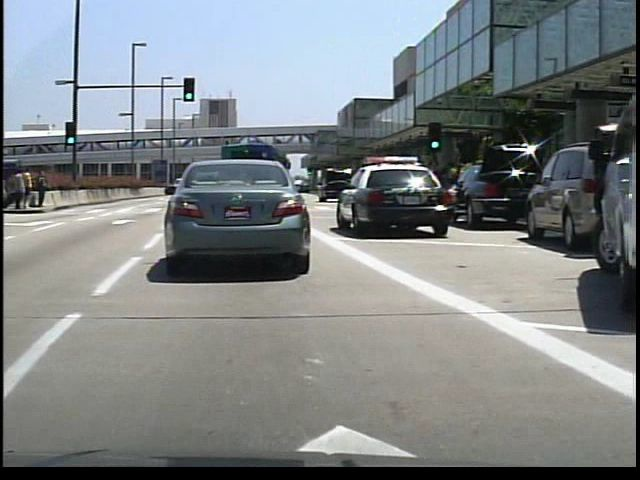person: (10, 168, 25, 213), (33, 167, 48, 210), (21, 164, 32, 212)
